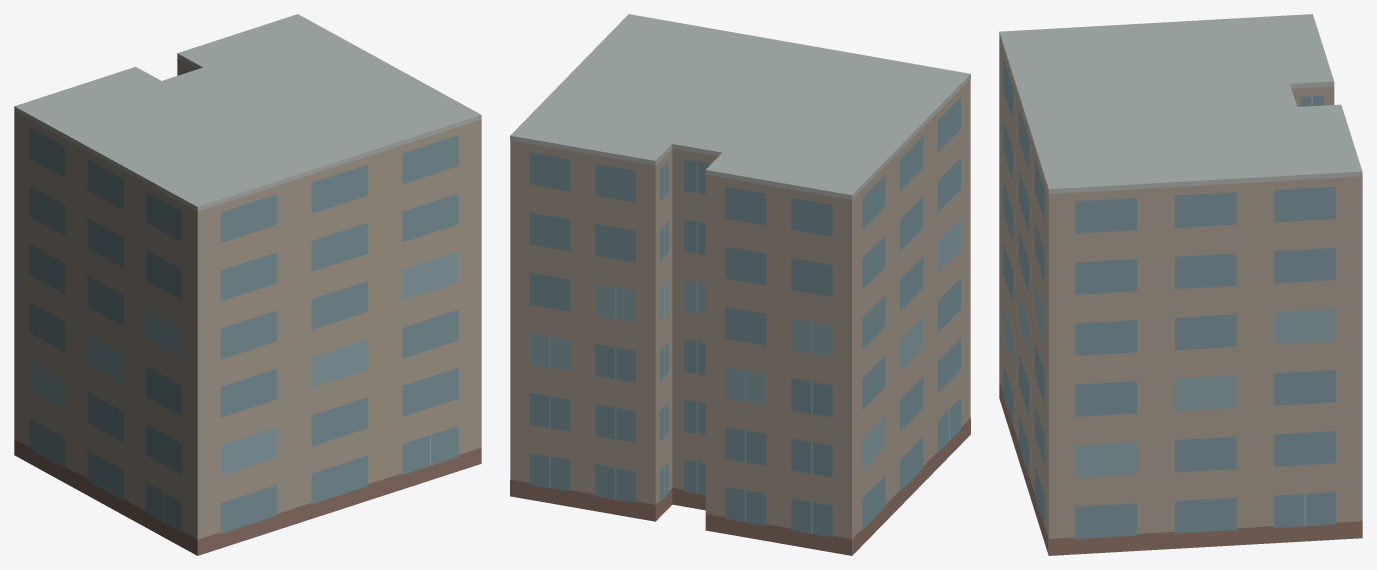
File: survey-upis-32748747.glb
The picture shows the model from 3 angles, left to right: view 1: azimuth 30°, elevation 25°; view 2: azimuth 150°, elevation 25°; view 3: azimuth 270°, elevation 25°; orthographic projection. The views are drawn at different scales.
Visible parts, largest first — view 1: survey-upis-32748747.tmp; view 2: survey-upis-32748747.tmp; view 3: survey-upis-32748747.tmp.
Part boxes in pixels (x1,y1,x2,y2): survey-upis-32748747.tmp: (14,14,481,555); survey-upis-32748747.tmp: (510,14,970,555); survey-upis-32748747.tmp: (999,14,1362,555).
Size of the model in its own units: 19.13 by 18.65 by 16.75.
